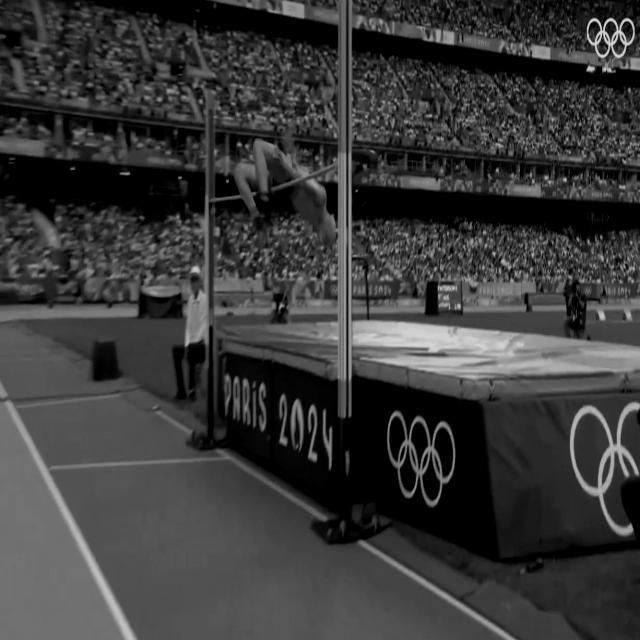jump: (226, 134, 336, 248)
